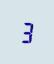three: (19, 19, 32, 44)
